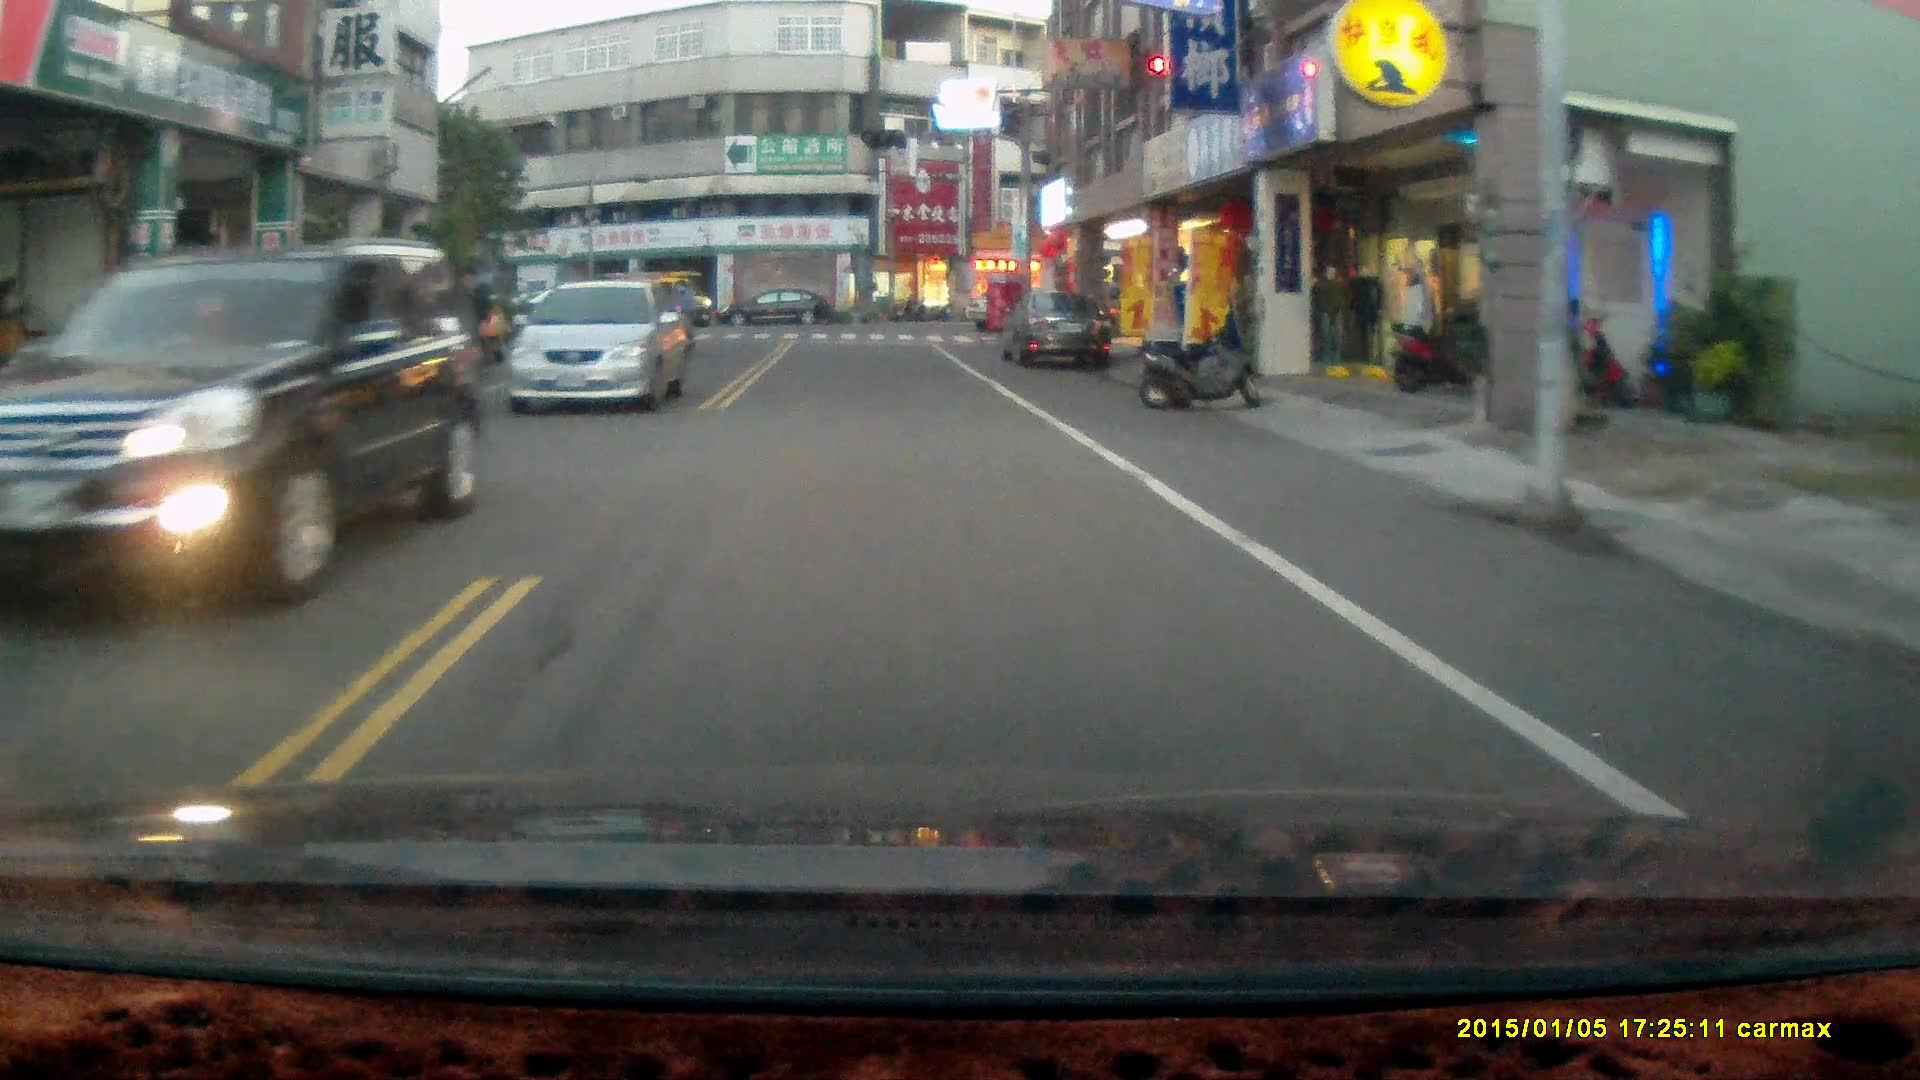vehicle: (3, 240, 487, 642), (514, 281, 694, 415), (1000, 287, 1116, 377), (715, 285, 835, 331)
